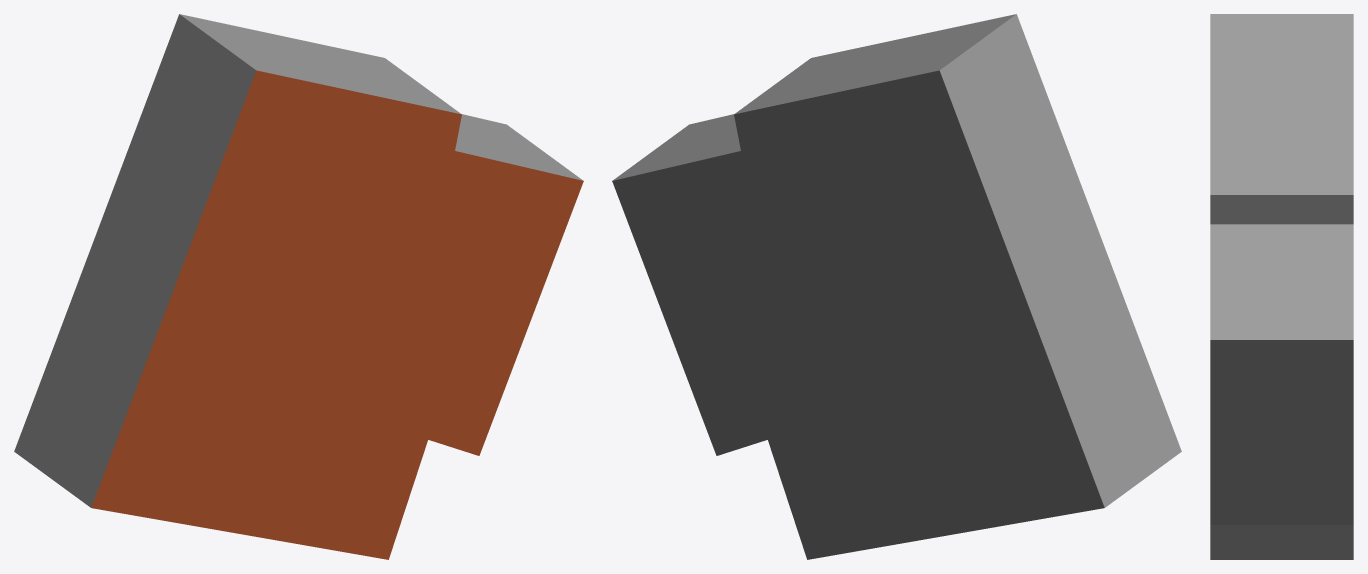
File: construction_6908_assumed_A_Casa_h6m.obj
3 views of the same model, side by side, from view 1: azimuth 30°, elevation 25°; view 2: azimuth 150°, elevation 25°; view 3: azimuth 270°, elevation 25° (orthographic). The views are drawn at different scales.
Parts seen in each view (by area): view 1: construction_6908_assumed_A_Casa; view 2: construction_6908_assumed_A_Casa; view 3: construction_6908_assumed_A_Casa.
Boxes of the visible parts, bbox=[...] form: construction_6908_assumed_A_Casa: bbox=[14, 14, 583, 559]; construction_6908_assumed_A_Casa: bbox=[612, 14, 1181, 559]; construction_6908_assumed_A_Casa: bbox=[1210, 14, 1353, 559].
Bounding box in the file's own units: 22.13 × 22.4 × 6.
